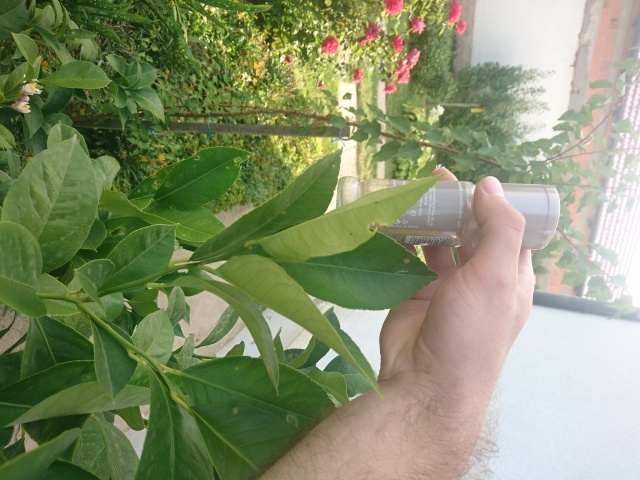Kotanyi Garlic Granules 70g: (333, 173, 563, 253)
